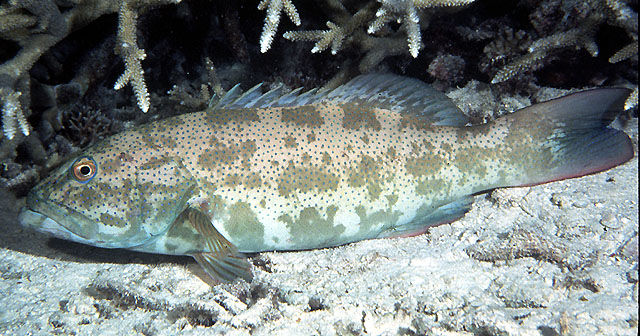fish: (19, 74, 635, 285)
